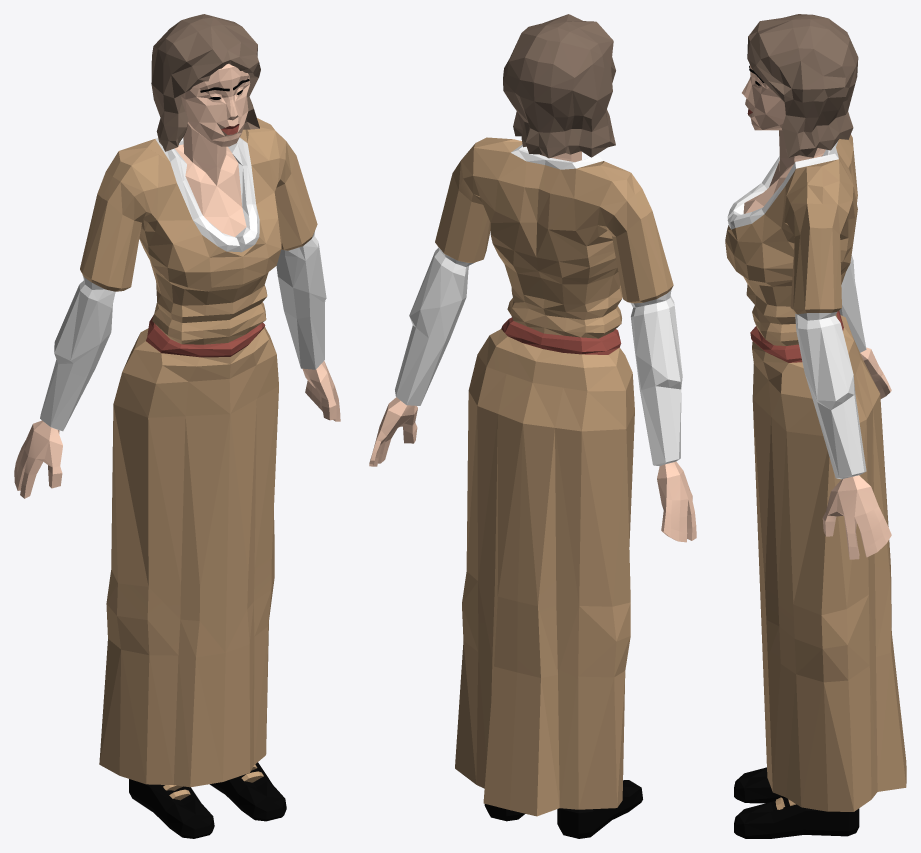
The model's file is peasant_2.glb.
3 views of the same model, side by side, from view 1: azimuth 30°, elevation 25°; view 2: azimuth 150°, elevation 25°; view 3: azimuth 270°, elevation 25° (orthographic).
Visible parts, largest first — view 1: peasant_2.001; view 2: peasant_2.001; view 3: peasant_2.001.
Part boxes in pixels (x1,y1,x2,y2): peasant_2.001: (14, 14, 340, 838); peasant_2.001: (369, 14, 696, 838); peasant_2.001: (725, 14, 906, 838).
Size of the model in its own units: 0.7085 by 1.68 by 0.3474.
Materials: 1 (1 with a texture image).
